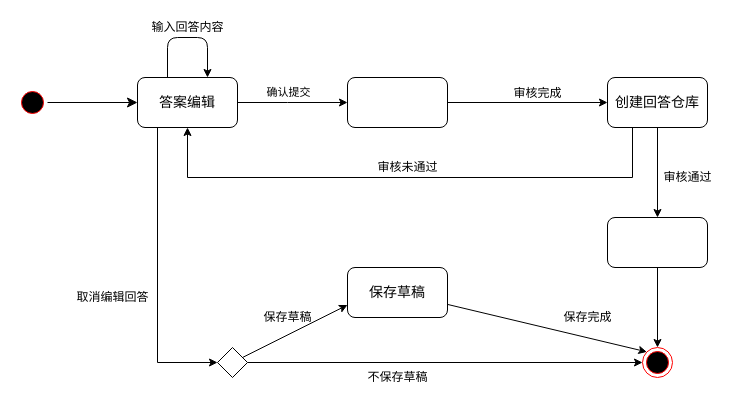
The diagram is 735 pixels wide and 404 high, and some of its shapes have lost their labels. The centre of each missing label's shape, as x and y in pixels:
"初步审核" belongs at pixel 397 102.
"提交审核人员审核" belongs at pixel 657 242.
